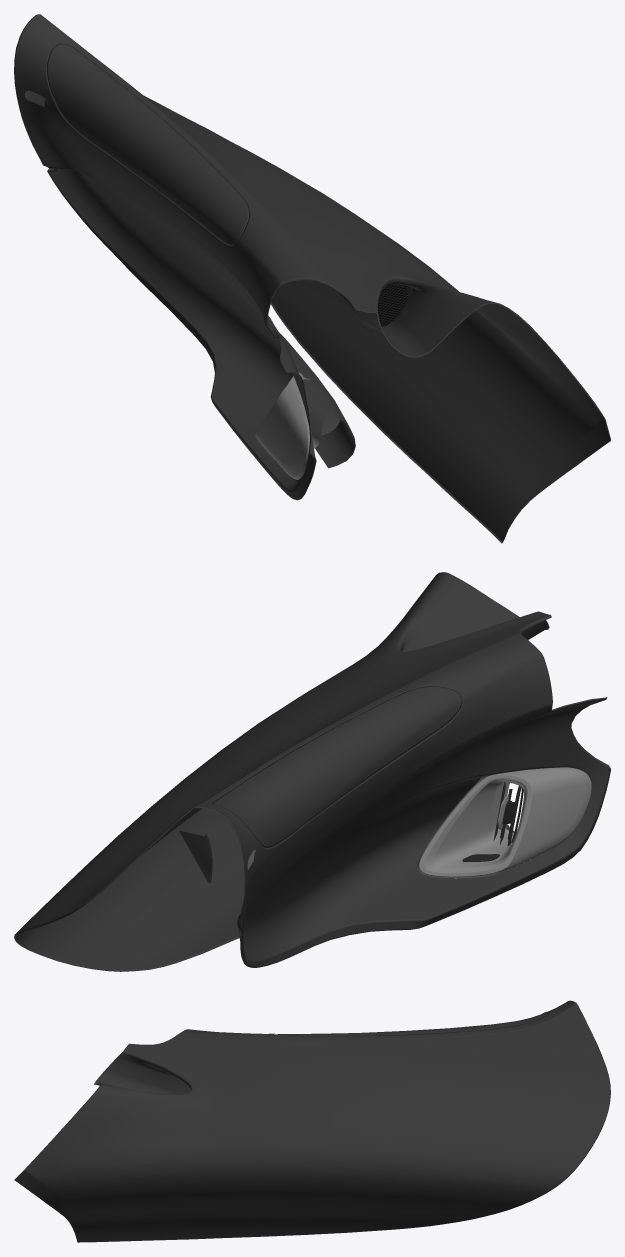
File: door_lf.glb
3 views of the same model, one above another, from view 1: azimuth 30°, elevation 25°; view 2: azimuth 150°, elevation 25°; view 3: azimuth 270°, elevation 25° (orthographic). The views are drawn at different scales.
Parts seen in each view (by area): view 1: body:Kit0_Paint_Geo_lodABody_lodA_McLaren_Elva_2021Paint_Ma.; view 2: body:Kit0_Paint_Geo_lodABody_lodA_McLaren_Elva_2021Paint_Ma.; view 3: body:Kit0_Paint_Geo_lodABody_lodA_McLaren_Elva_2021Paint_Ma..
Part boxes in pixels (box(x1,y1,x2,y2)): body:Kit0_Paint_Geo_lodABody_lodA_McLaren_Elva_2021Paint_Ma.: box(14, 14, 610, 543); body:Kit0_Paint_Geo_lodABody_lodA_McLaren_Elva_2021Paint_Ma.: box(14, 572, 610, 971); body:Kit0_Paint_Geo_lodABody_lodA_McLaren_Elva_2021Paint_Ma.: box(14, 1000, 610, 1242).
Size of the model in its own units: 0.00427 by 0.00493 by 0.0131.
Materials: 4 (3 with a texture image).
